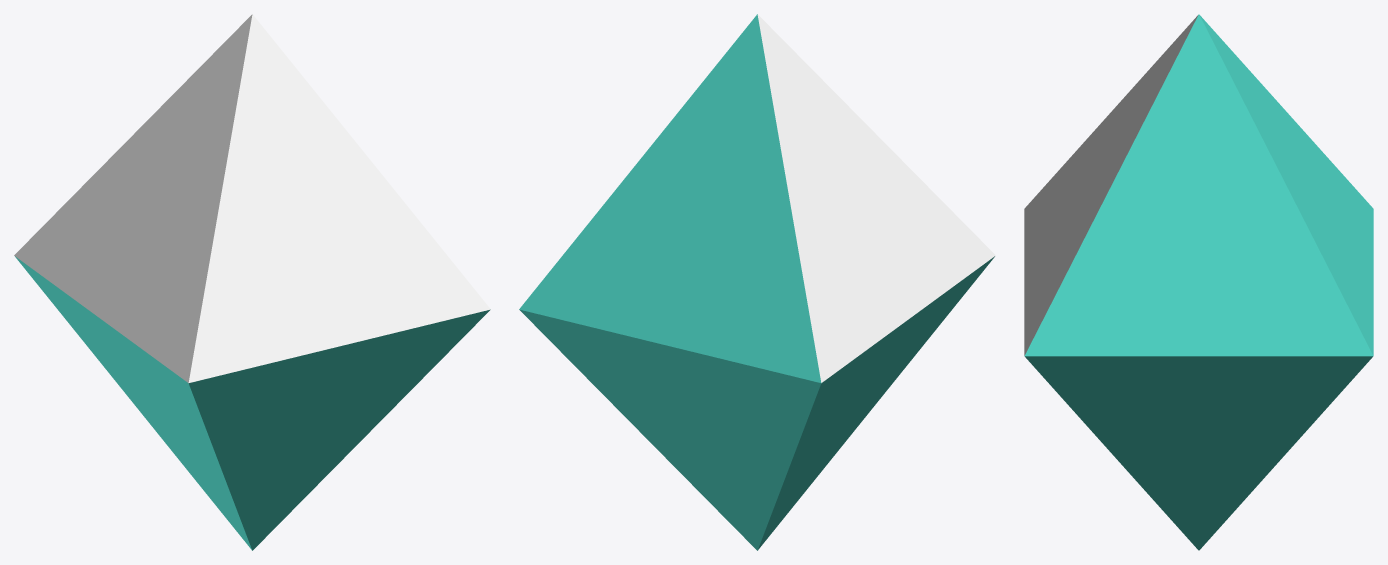
Rendered from PR_GemXP_M.fbx.
The picture shows the model from 3 angles, left to right: view 1: azimuth 30°, elevation 25°; view 2: azimuth 150°, elevation 25°; view 3: azimuth 270°, elevation 25°; orthographic projection.
Parts seen in each view (by area): view 1: PR_GemXP_M; view 2: PR_GemXP_M; view 3: PR_GemXP_M.
Part boxes in pixels (left/top/right/bottom): PR_GemXP_M: left=14, top=14, right=490, bottom=550; PR_GemXP_M: left=519, top=14, right=995, bottom=550; PR_GemXP_M: left=1024, top=14, right=1373, bottom=550.
Bounding box in the file's own units: 0.2121 × 0.2121 × 0.36.
